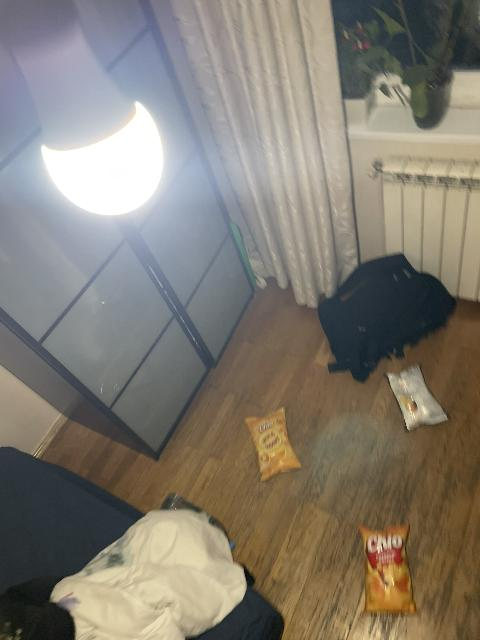Chio Cascaval 125g: (359, 522, 416, 616)
Chio Hula Hoops Cheese 70g: (245, 408, 302, 481)
Lays Beef Grilled Ribs 125g: (384, 364, 447, 429)
